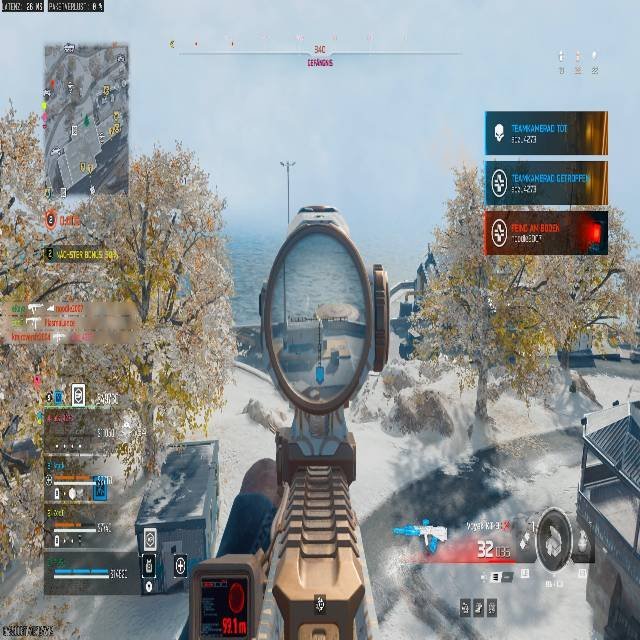player: (396, 300, 421, 363)
